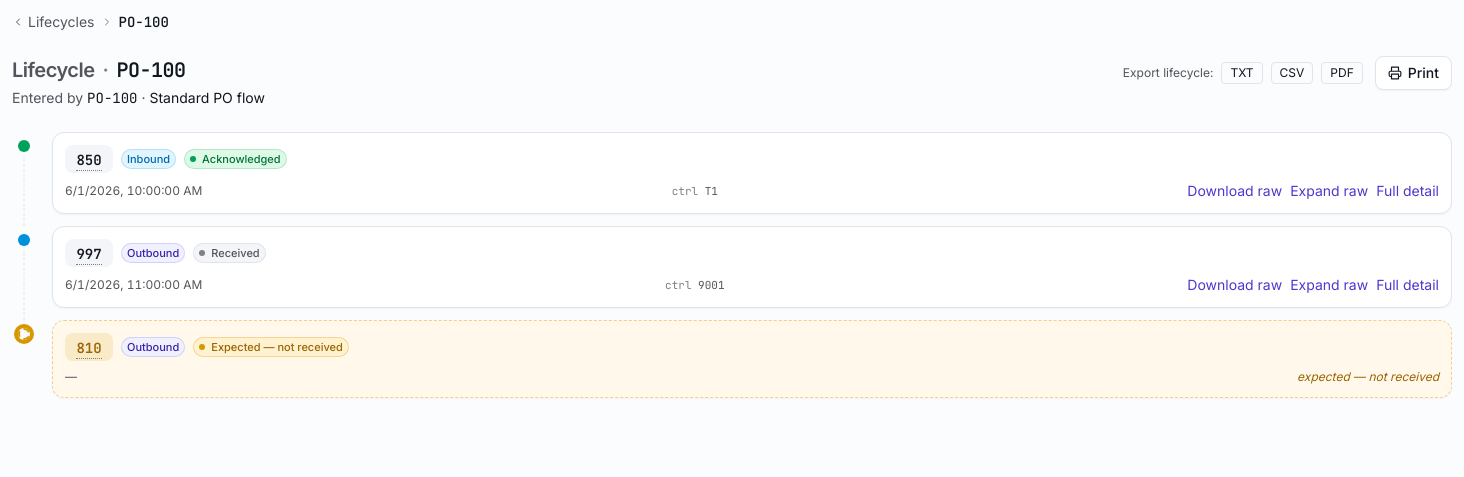
Test: expand raw loads raw file content inline
Expected: the button "850" is shown, left=76, top=150, right=102, bottom=171
Step 1. Click the button "Expand raw" in the row of "T1" → (1329, 191), box left=1290, top=181, right=1368, bottom=201
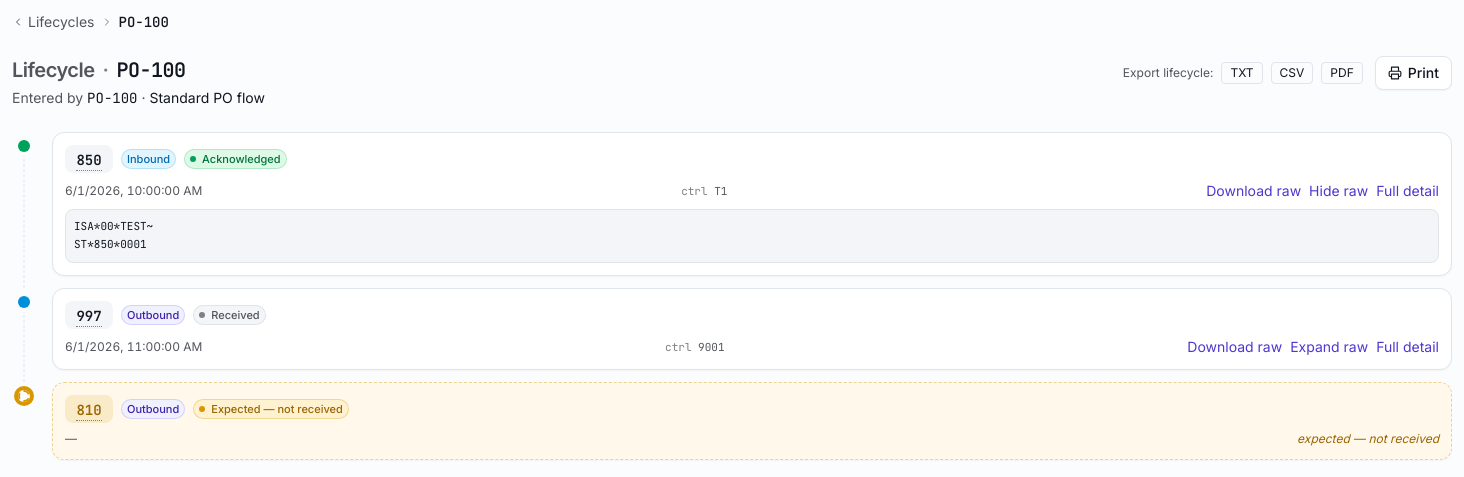
Now the element with test id "lifecycle-raw-panel" is shown, box left=65, top=209, right=1439, bottom=263
Now the text "ISA*00*TEST~" is shown, box left=74, top=219, right=153, bottom=233
